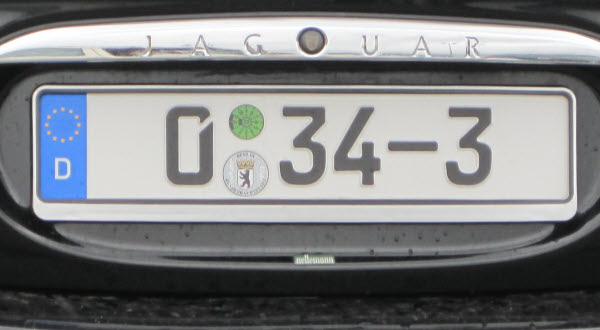license_plate: (33, 86, 576, 209)
